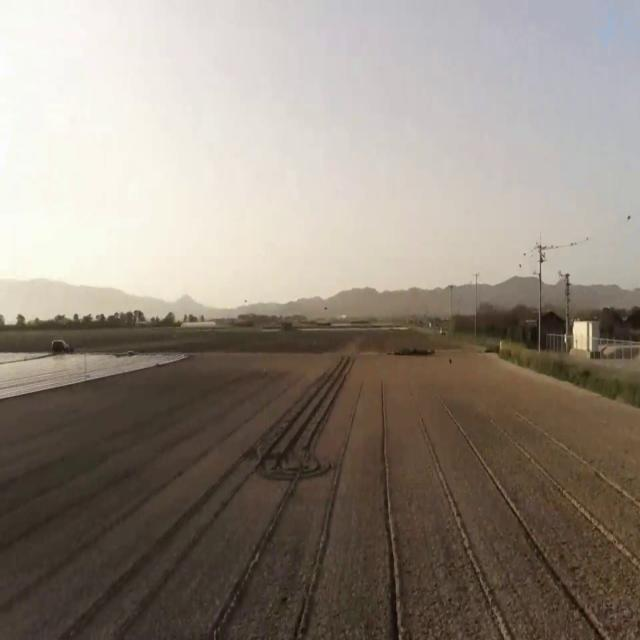bird: (538, 244, 546, 266), (626, 212, 632, 226)
